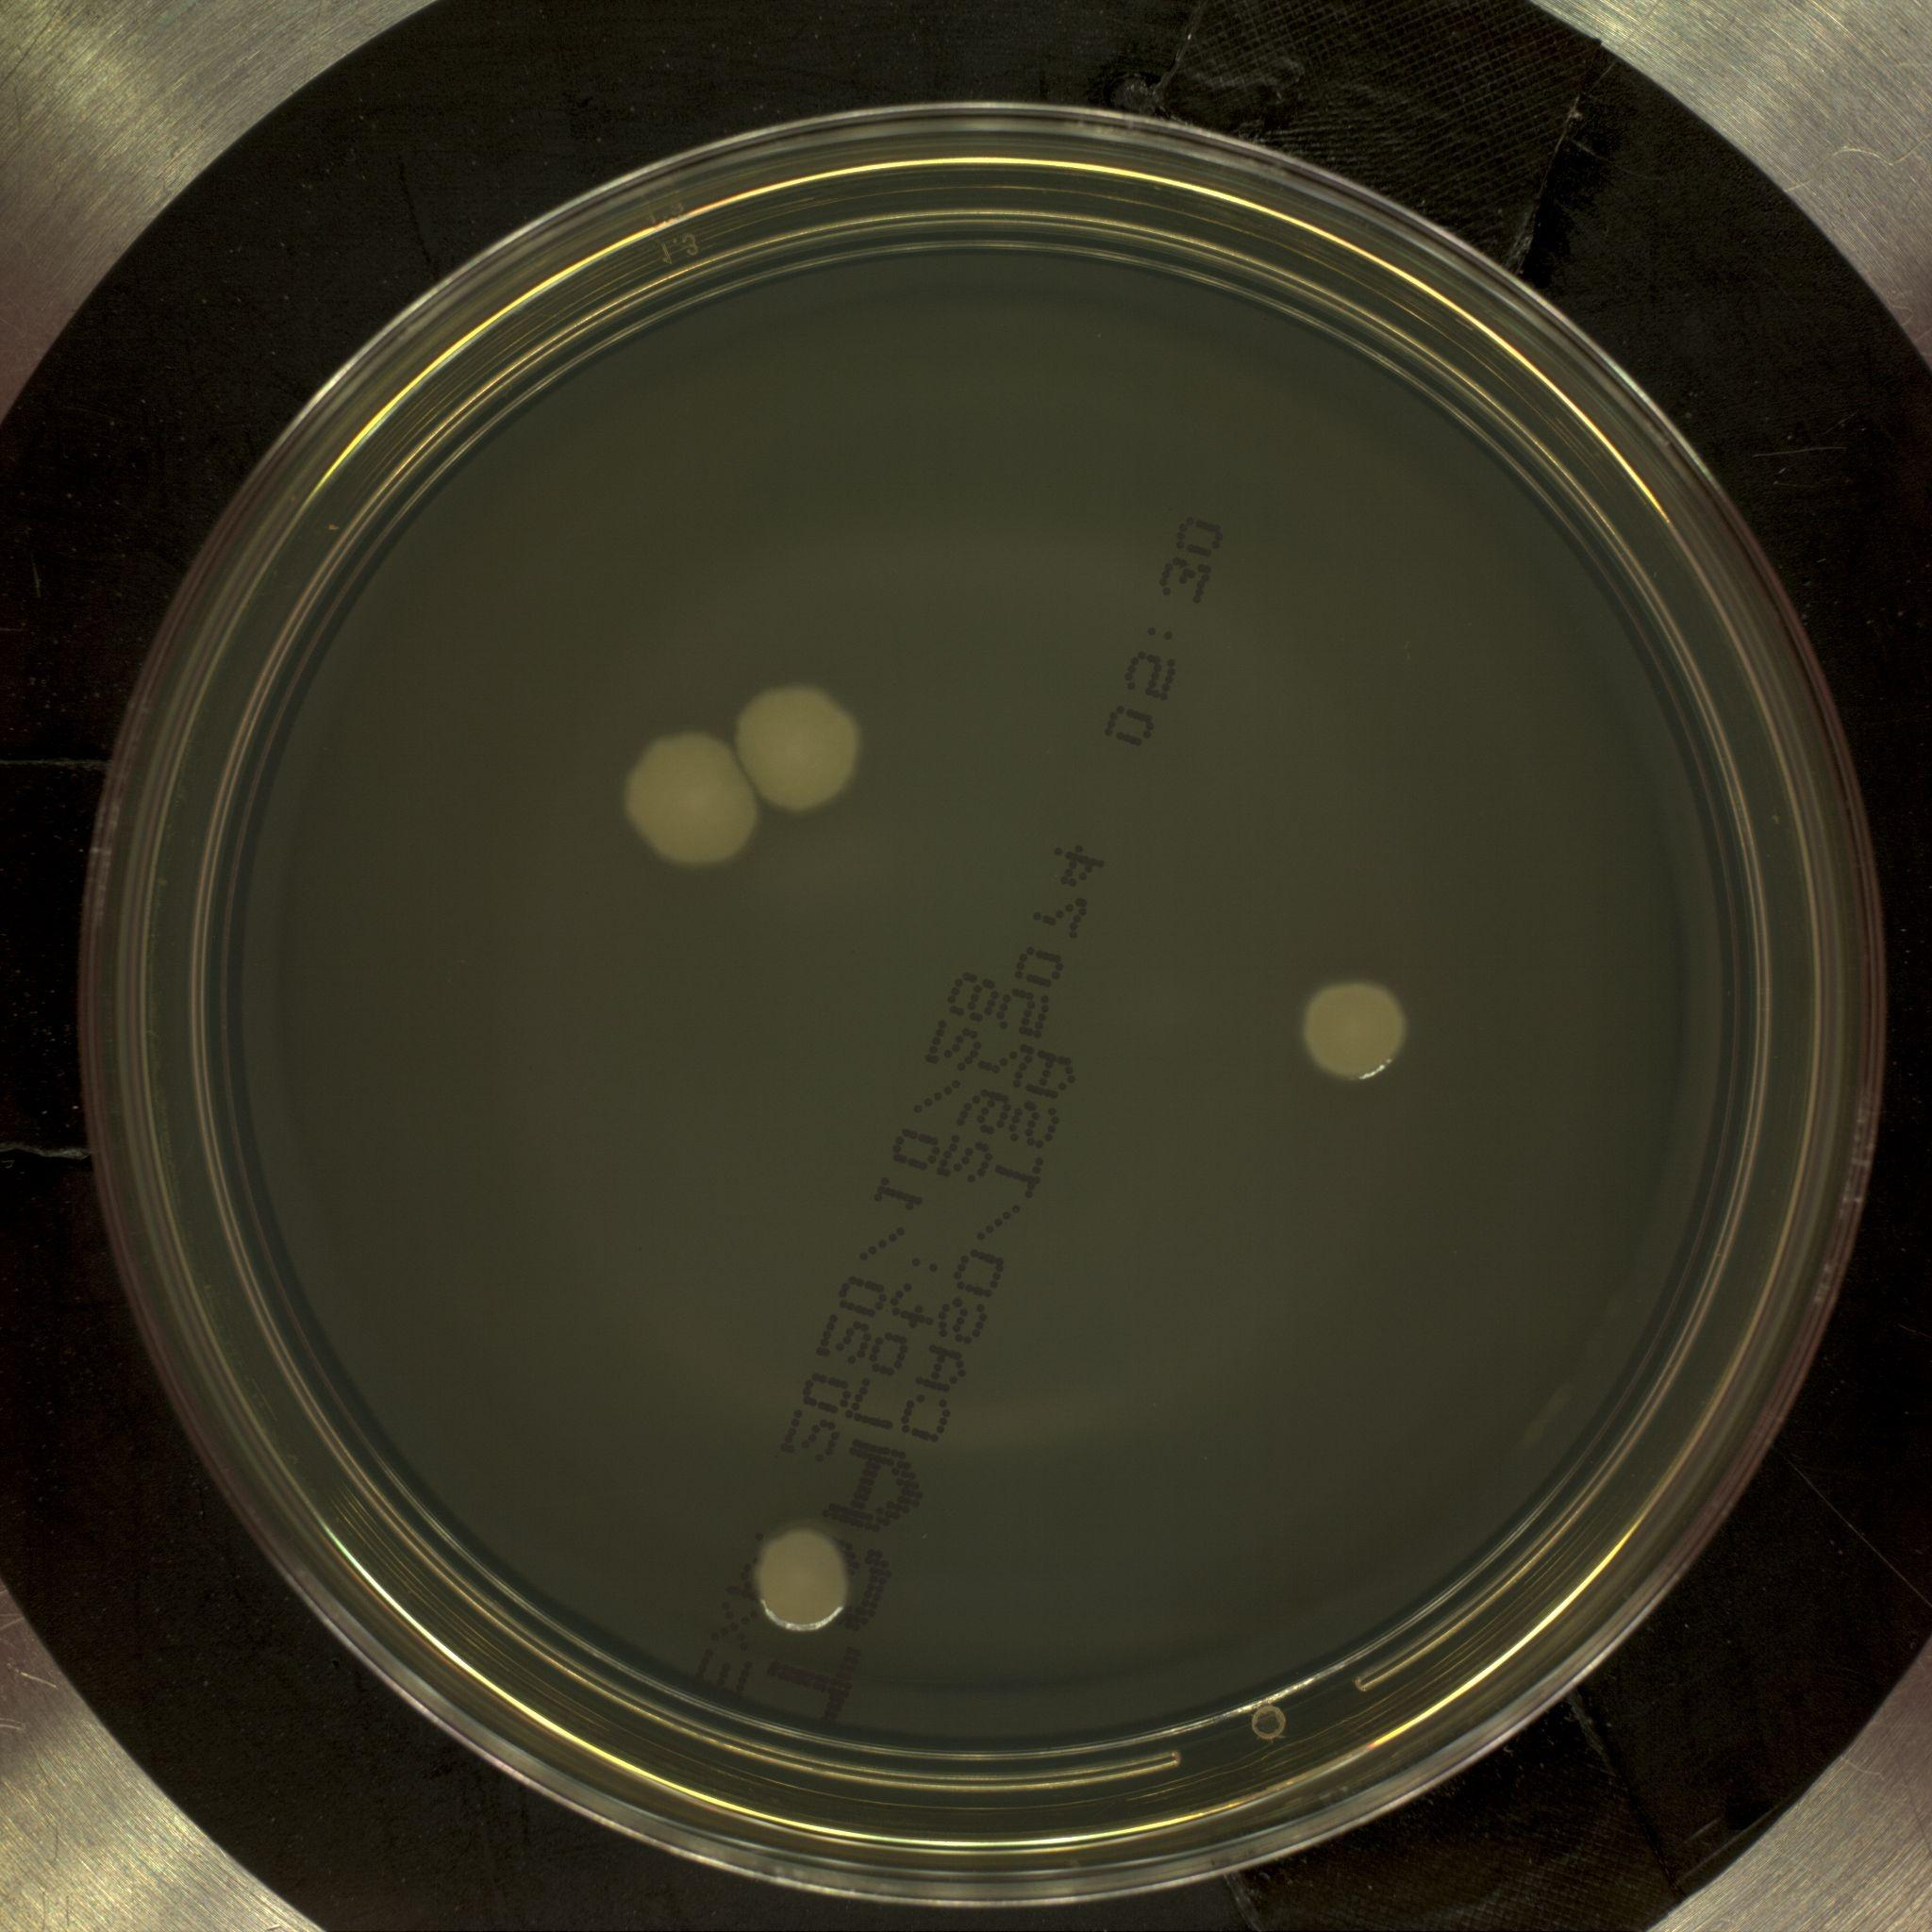e. coli: (619, 727, 764, 878), (732, 674, 870, 816), (1299, 962, 1421, 1085), (750, 1523, 865, 1637)
